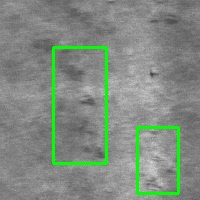rolled-in_scale: (53, 48, 106, 163), (137, 127, 178, 193)
